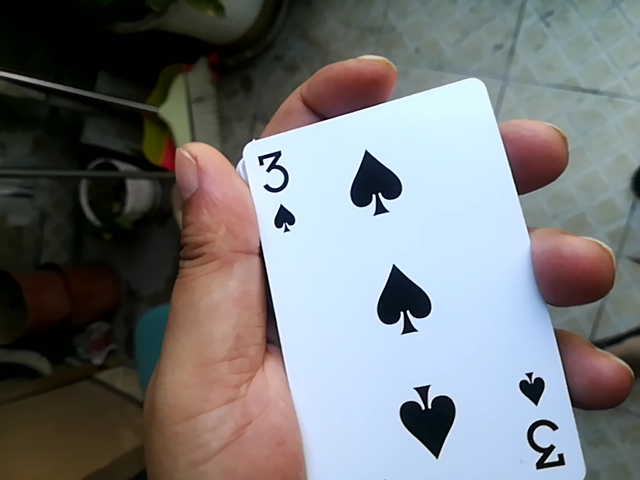ht 3: (225, 83, 579, 476)
